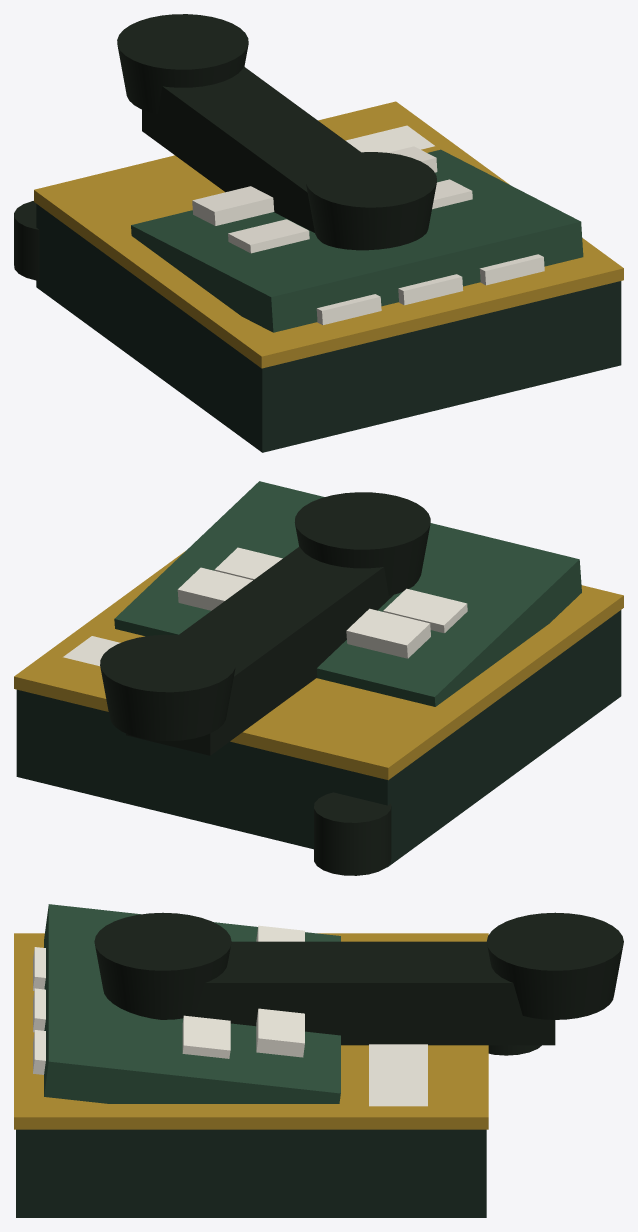
File: desk-phone.glb
3 renders of one model, top to bottom at view 1: azimuth 30°, elevation 25°; view 2: azimuth 150°, elevation 25°; view 3: azimuth 270°, elevation 25°, orthographic. The views are drawn at different scales.
Visible parts, largest first — view 1: base_shell, keypad_deck, gold_trim, handset_bar, mouthpiece, earpiece, key_1, cord_reel, key_4, dial_label_slot, key_12, key_10 (+2 smaller); view 2: base_shell, keypad_deck, gold_trim, handset_bar, earpiece, mouthpiece, cord_reel, key_1, key_4, key_3, key_6, dial_label_slot; view 3: base_shell, handset_bar, keypad_deck, gold_trim, earpiece, mouthpiece, dial_label_slot, key_3, key_6, key_1, key_12, key_11 (+2 smaller).
Boxes of the visible parts, <box> form: base_shell: <box>36,204,621,452</box>; keypad_deck: <box>131,149,583,332</box>; gold_trim: <box>34,101,623,368</box>; handset_bar: <box>142,66,360,232</box>; mouthpiece: <box>305,152,436,250</box>; earpiece: <box>117,14,248,114</box>; key_1: <box>192,186,274,225</box>; cord_reel: <box>14,201,39,280</box>; key_4: <box>228,219,309,253</box>; dial_label_slot: <box>345,125,434,152</box>; key_12: <box>479,254,544,285</box>; key_10: <box>316,294,381,324</box>; base_shell: <box>16,610,621,867</box>; keypad_deck: <box>114,481,581,706</box>; gold_trim: <box>14,551,623,780</box>; handset_bar: <box>126,546,393,755</box>; earpiece: <box>100,634,235,740</box>; mouthpiece: <box>294,492,430,595</box>; cord_reel: <box>314,792,391,875</box>; key_1: <box>346,608,430,658</box>; key_4: <box>383,588,467,633</box>; key_3: <box>177,567,252,610</box>; key_6: <box>214,547,282,579</box>; dial_label_slot: <box>63,636,120,666</box>; base_shell: <box>16,1129,486,1217</box>; handset_bar: <box>193,941,555,1045</box>; keypad_deck: <box>44,904,340,1103</box>; gold_trim: <box>14,933,488,1129</box>; earpiece: <box>486,912,623,1019</box>; mouthpiece: <box>94,912,231,1019</box>; dial_label_slot: <box>369,1044,427,1106</box>; key_3: <box>256,1008,304,1057</box>; key_6: <box>182,1015,230,1058</box>; key_1: <box>256,925,304,941</box>; key_12: <box>33,1030,45,1074</box>; key_11: <box>33,988,45,1032</box>.
Size of the model in its own units: 0.226 by 0.104 by 0.311.
